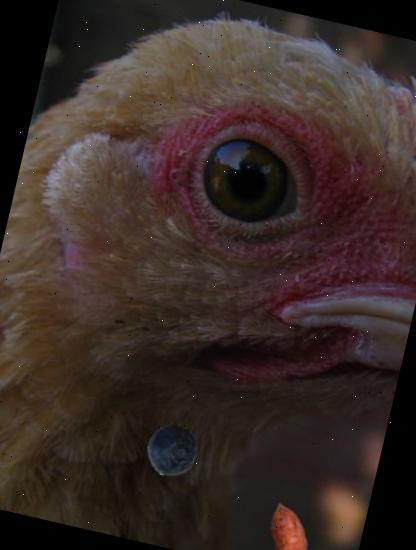Blueberry: (140, 420, 202, 482)
Nut: (247, 494, 329, 550)
